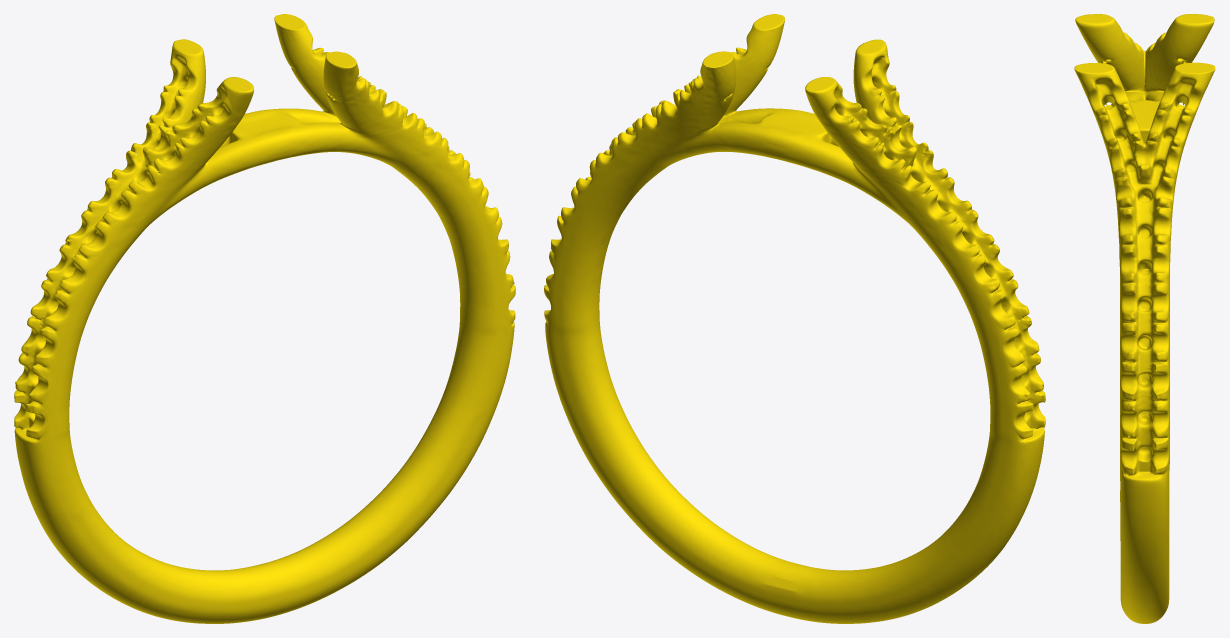
Rendered from Shank_Split_U Prong_B_No, Hidden Halo_Band.glb.
3 views of the same model, side by side, from view 1: azimuth 30°, elevation 25°; view 2: azimuth 150°, elevation 25°; view 3: azimuth 270°, elevation 25° (orthographic).
Bounding box in the file's own units: 0.0213 × 0.0233 × 0.00538.
